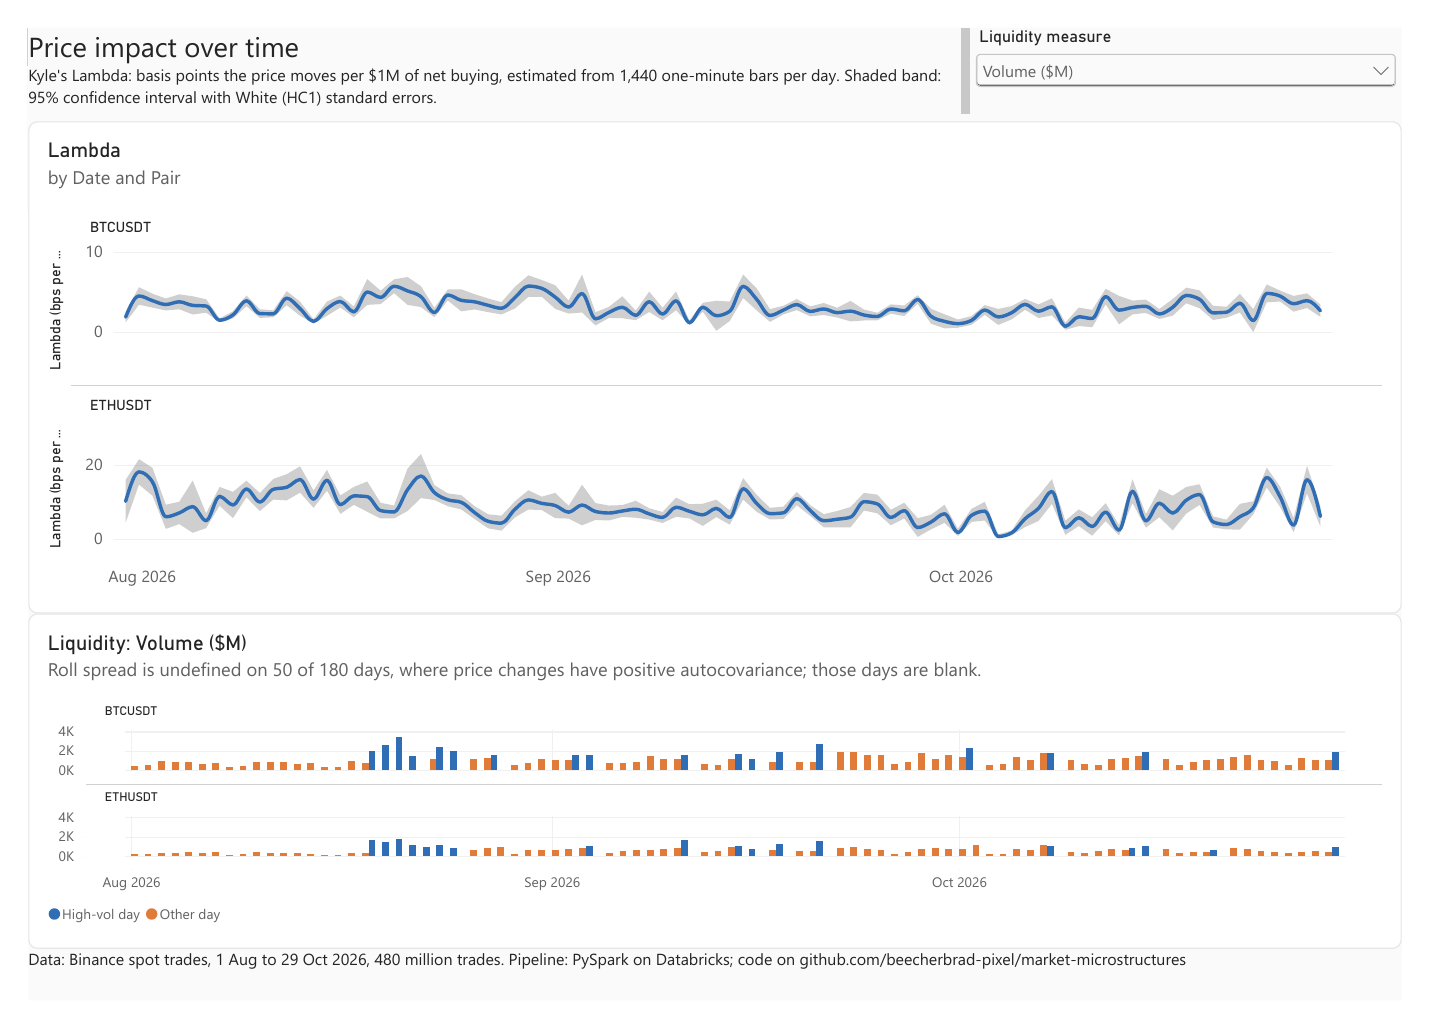

The page's visual inventory and layout, read from the dashboard file:
{"tool":"powerbi","page":{"name":"Price impact over time","canvas":[1200,850],"ordinal":0},"visuals":[{"type":"slicer","fields":{"Values":["Liquidity measure.Liquidity measure"]},"box":[822.8,0,376.8,117.2],"z":0},{"type":"textbox","box":[0,0,822.8,81.7],"z":1000},{"type":"lineChart","fields":{"Category":["Dates.Date"],"Rows":["Pair.Pair"],"Y":["Daily.Lambda"]},"box":[0,81.7,1199.6,430.2],"z":2000},{"type":"clusteredColumnChart","fields":{"Category":["Dates.Date"],"Rows":["Pair.Pair"],"Series":["Daily.High-vol day"],"Y":["Daily.Volume avg"]},"box":[0,511.9,1199.6,293.1],"z":3000},{"type":"textbox","box":[0,805,1199.6,45],"z":3001}]}

Visuals, with their boxes in screenshot pixels (x1, y1, x2, y2), scaled from the page's 1200x850 canvas onto the 1430x1029 screenshot:
slicer - Liquidity measure.Liquidity measure: [981, 0, 1429, 142]
textbox: [0, 0, 981, 99]
lineChart - Dates.Date x Pair.Pair: [0, 99, 1429, 620]
clusteredColumnChart - Dates.Date x Pair.Pair: [0, 620, 1429, 975]
textbox: [0, 975, 1429, 1028]
